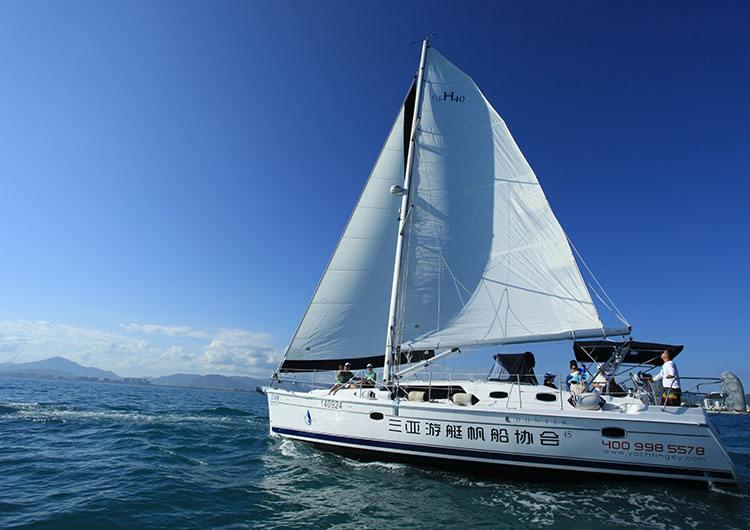fanchuan: (260, 31, 723, 481)
